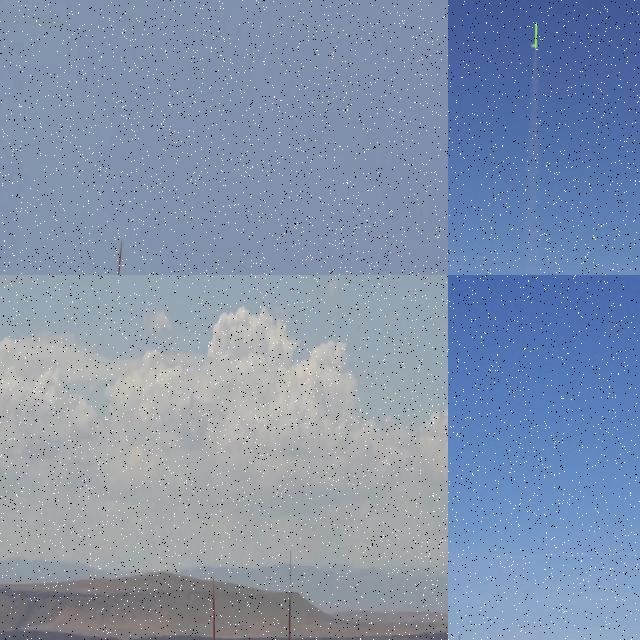Rocket: (115, 239, 123, 275), (286, 594, 292, 640), (212, 583, 216, 640), (531, 22, 539, 49)
